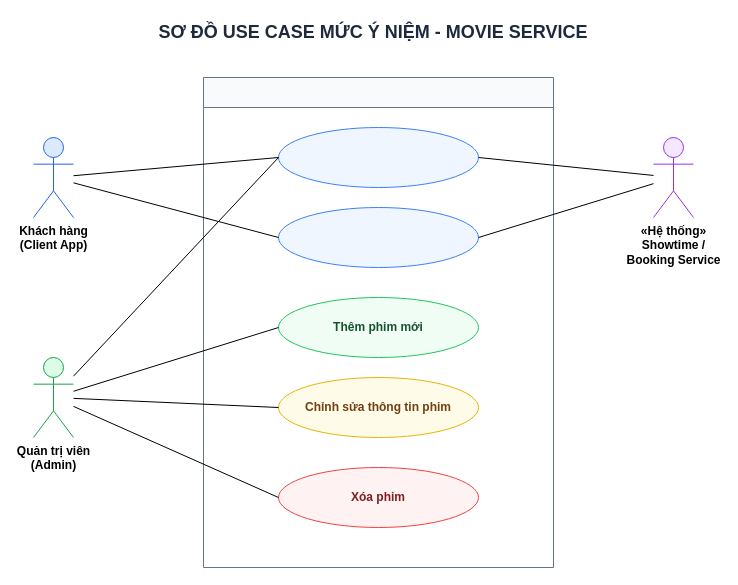
Some shapes in this 738 by 585 pixel diagram are drawn without their labels. The box of each missing label's shape, as (x1, y1, x2, y2) in pixels:
Movie Service (:5001): (202, 76, 554, 568)
Xem chi tiết phim: (278, 206, 478, 268)
Xem danh sách phim: (278, 126, 478, 188)
